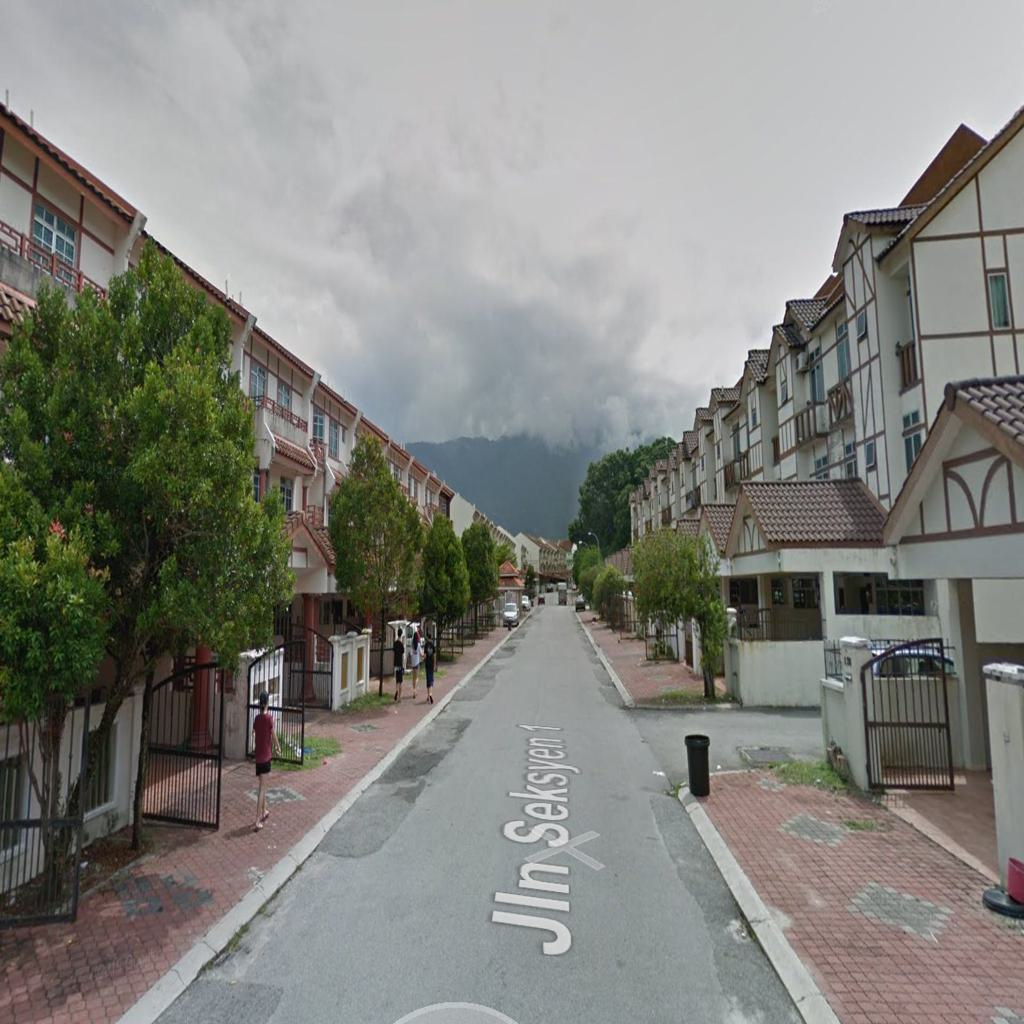Junction: (549, 657, 827, 816)
